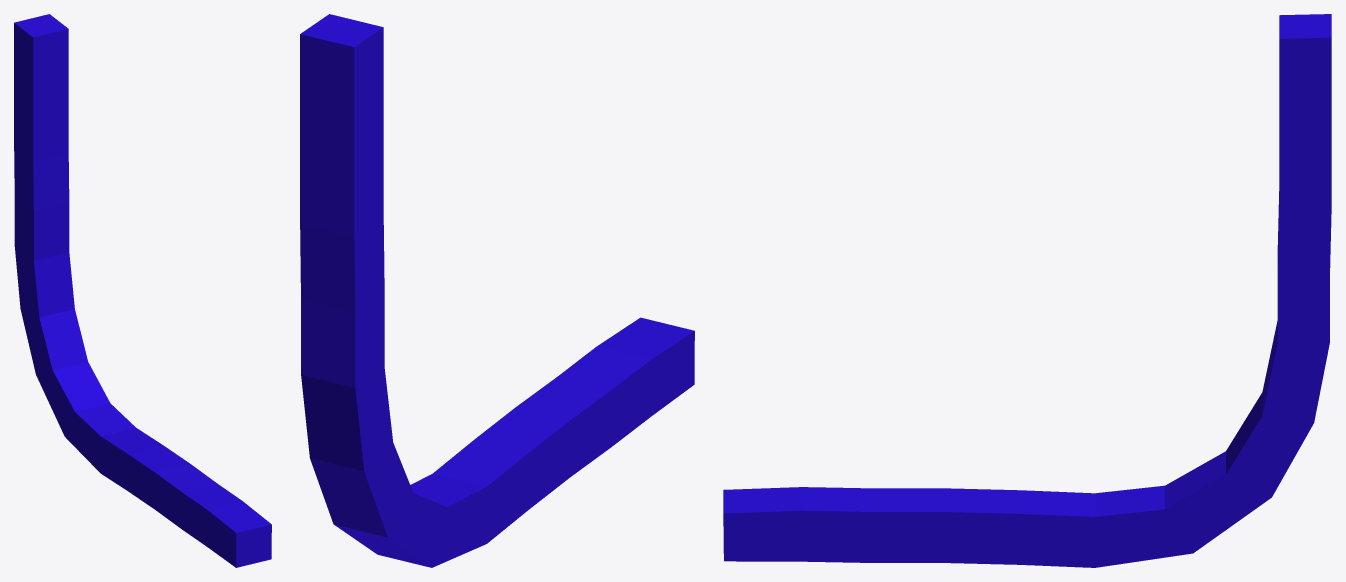
Rendered from tile_modulos.fbx.
3 renders of one model, left to right at view 1: azimuth 30°, elevation 25°; view 2: azimuth 150°, elevation 25°; view 3: azimuth 270°, elevation 25°, orthographic. The views are drawn at different scales.
Visible parts, largest first — view 1: Box334; view 2: Box334; view 3: Box334.
Part boxes in pixels (bbox=[...]): Box334: bbox=[14, 14, 271, 567]; Box334: bbox=[300, 14, 694, 567]; Box334: bbox=[723, 14, 1331, 567].
Size of the model in its own units: 3.97 by 41.44 by 43.08.
